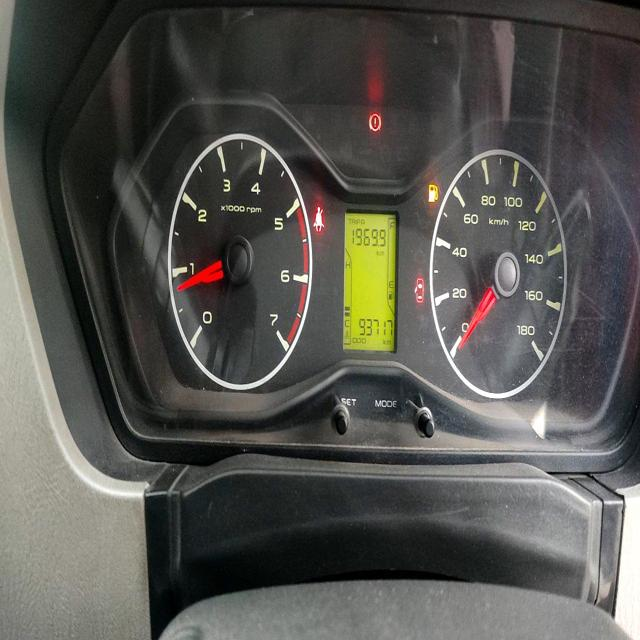odometer: (355, 316, 395, 341)
